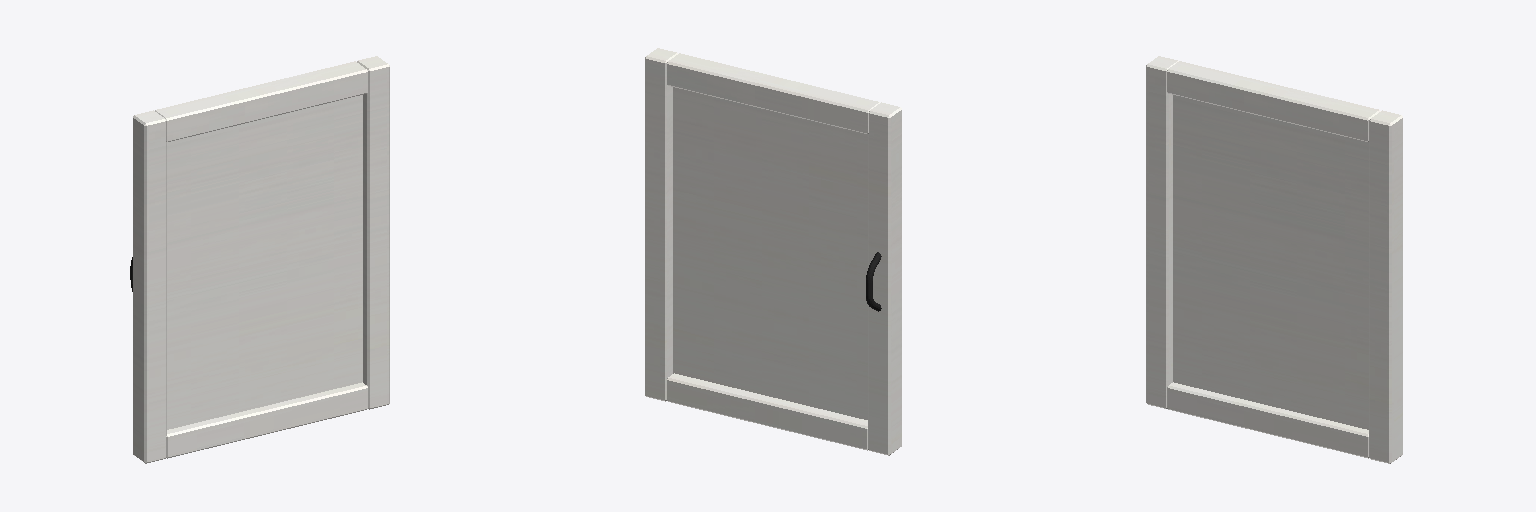
The picture shows the model from 3 angles: view 1: azimuth 30°, elevation 25°; view 2: azimuth 150°, elevation 25°; view 3: azimuth 330°, elevation 25°; orthographic projection.
Parts seen in each view (by area): view 1: Object087, Object088; view 2: Object087, Object088; view 3: Object087, Object088.
Boxes of the visible parts, x1=… form: Object087: x1=167, y1=95, x2=362, y2=429; Object088: x1=133, y1=56, x2=389, y2=463; Object087: x1=673, y1=87, x2=867, y2=419; Object088: x1=645, y1=48, x2=901, y2=455; Object087: x1=1173, y1=95, x2=1368, y2=429; Object088: x1=1146, y1=56, x2=1402, y2=463.
Size of the model in its own units: 428 by 566 by 72.94.
3 materials, 1 textured.